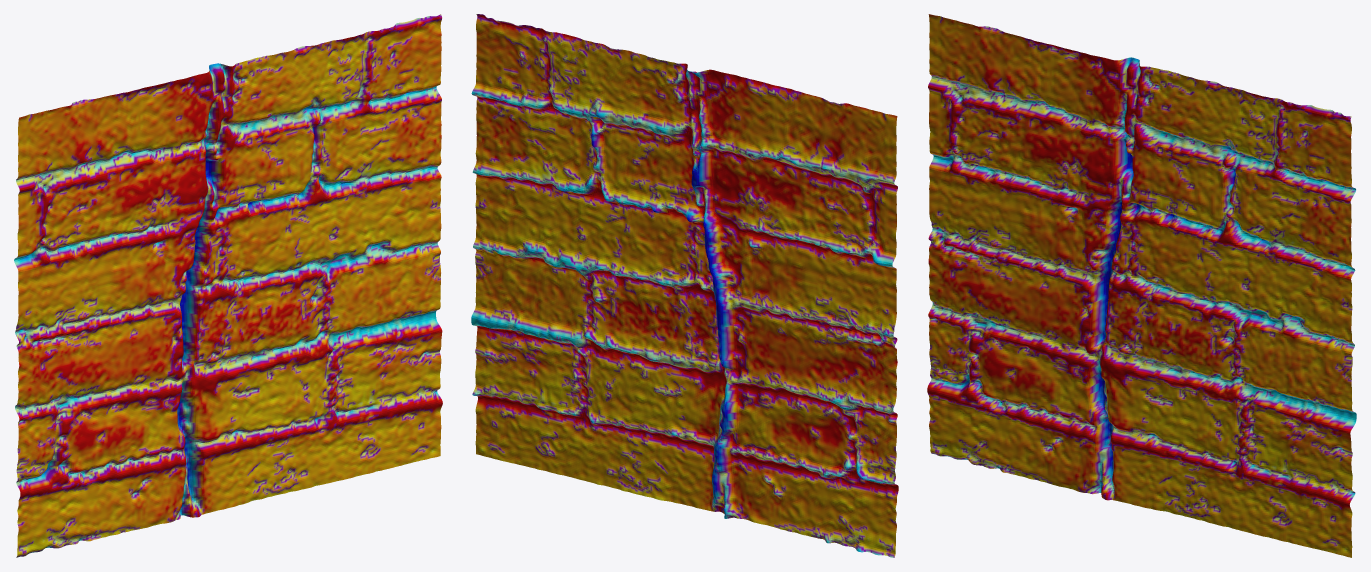
3 views of the same model, side by side, from view 1: azimuth 30°, elevation 25°; view 2: azimuth 150°, elevation 25°; view 3: azimuth 330°, elevation 25° (orthographic).
Parts seen in each view (by area): view 1: world; view 2: world; view 3: world.
Part boxes in pixels (box(x1,y1,x2,y2)): world: box(14, 14, 442, 557); world: box(471, 14, 898, 557); world: box(927, 14, 1356, 557).
Size of the model in its own units: 299 by 299 by 12.
